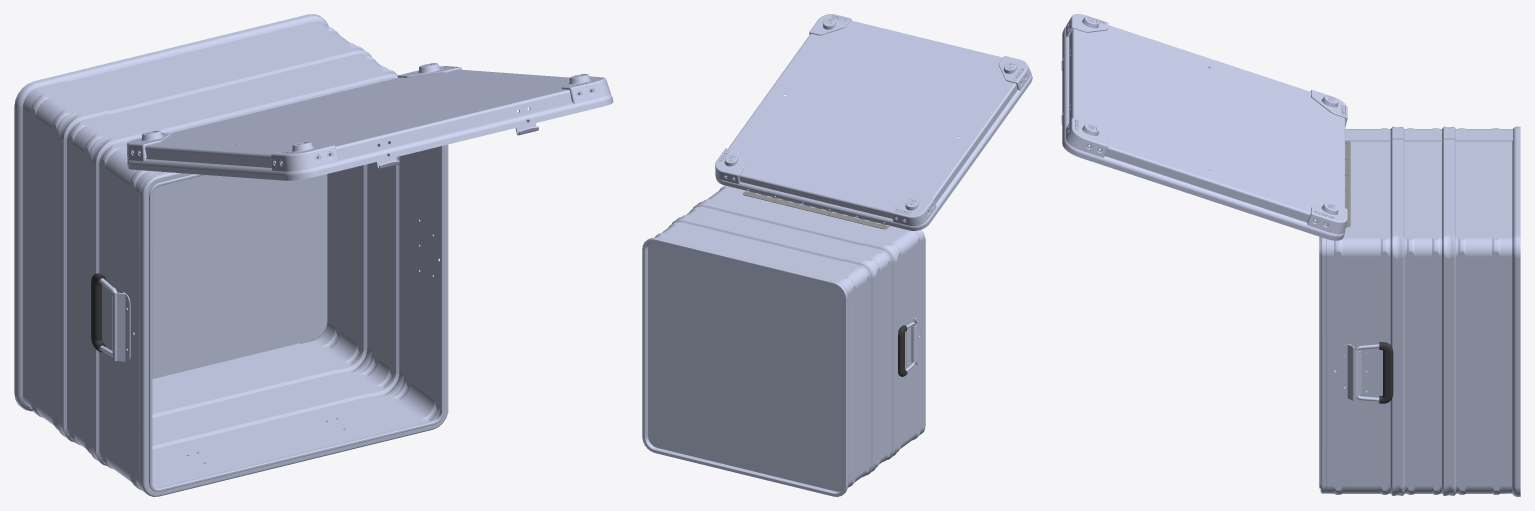
File: case4.obj
The picture shows the model from 3 angles, left to right: view 1: azimuth 30°, elevation 25°; view 2: azimuth 150°, elevation 25°; view 3: azimuth 270°, elevation 25°; orthographic projection. The views are drawn at different scales.
Visible parts, largest first — view 1: Volumenkörper2, Volumenkörper2:1; view 2: Volumenkörper2, Volumenkörper2:1; view 3: Volumenkörper2, Volumenkörper2:1.
Boxes of the visible parts, x1,y1,x2,y2 form: Volumenkörper2: [14, 14, 448, 496]; Volumenkörper2:1: [127, 63, 613, 180]; Volumenkörper2: [642, 185, 925, 496]; Volumenkörper2:1: [715, 14, 1032, 230]; Volumenkörper2: [1319, 126, 1520, 496]; Volumenkörper2:1: [1061, 14, 1347, 240].
Bounding box in the file's own units: 584 × 808 × 898.
